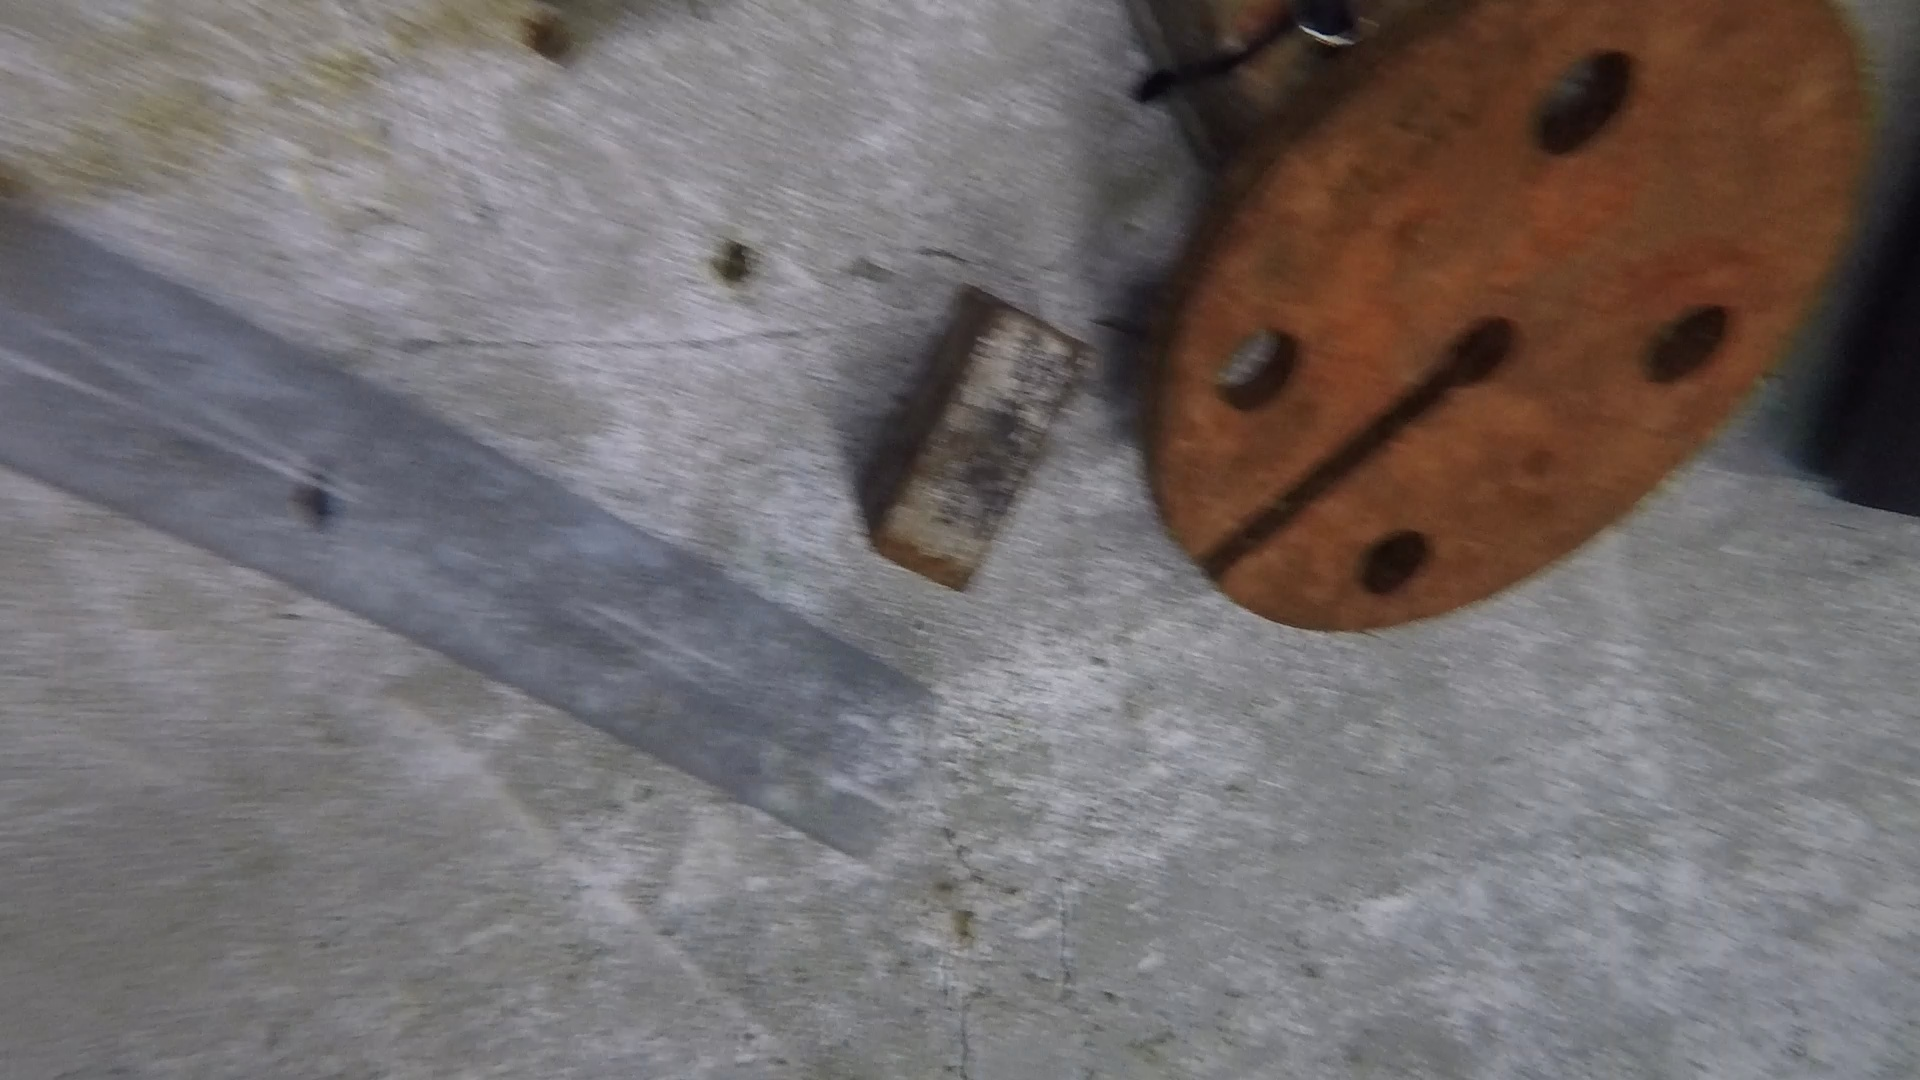flange: (1134, 7, 1875, 637)
led_block: (855, 276, 1101, 603), (1120, 7, 1375, 162)
pipe: (4, 204, 936, 865)
